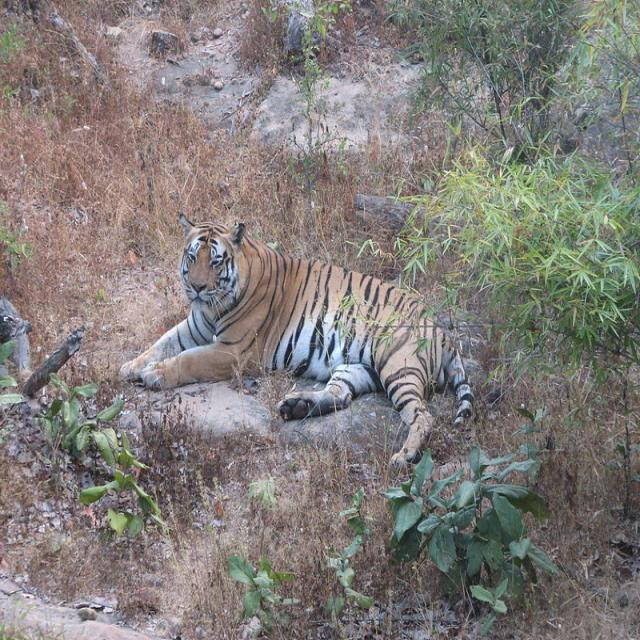Tiger: (120, 219, 474, 466)
